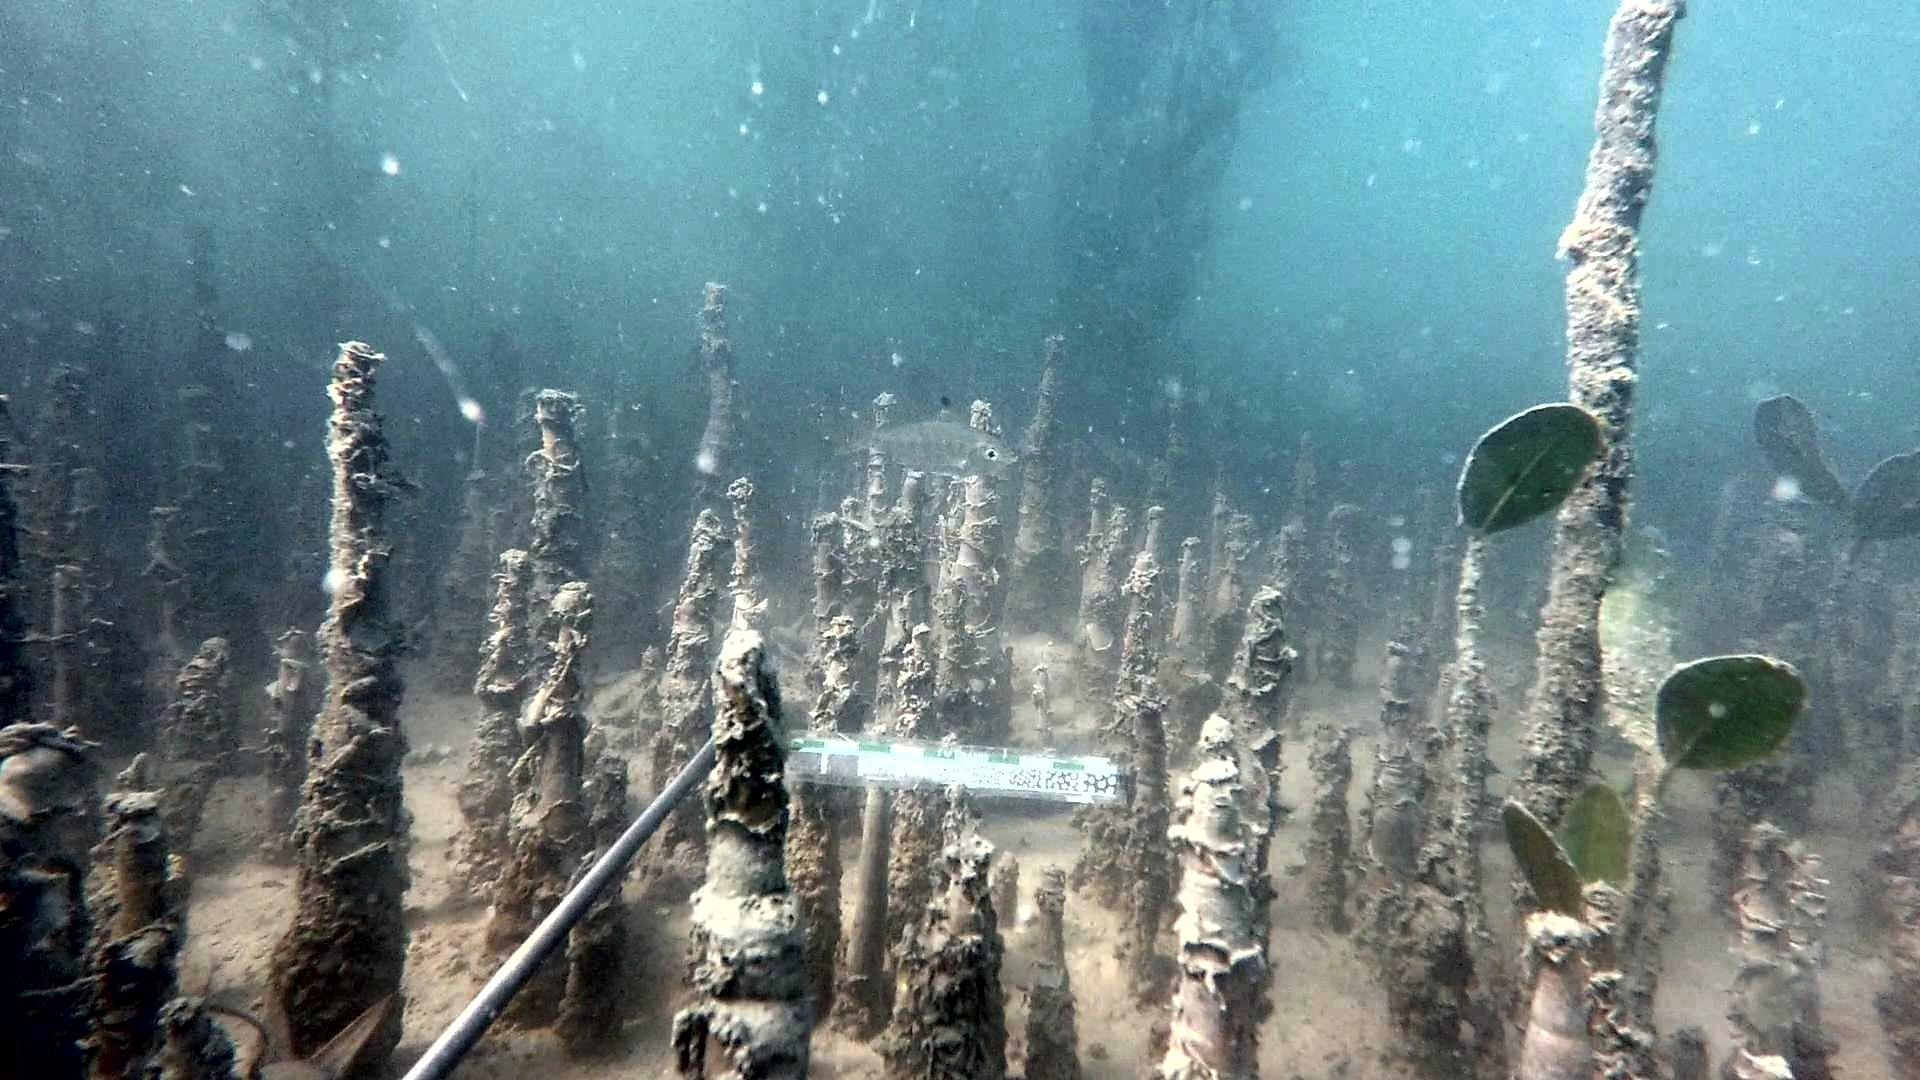gerres: (841, 394, 1019, 479)
